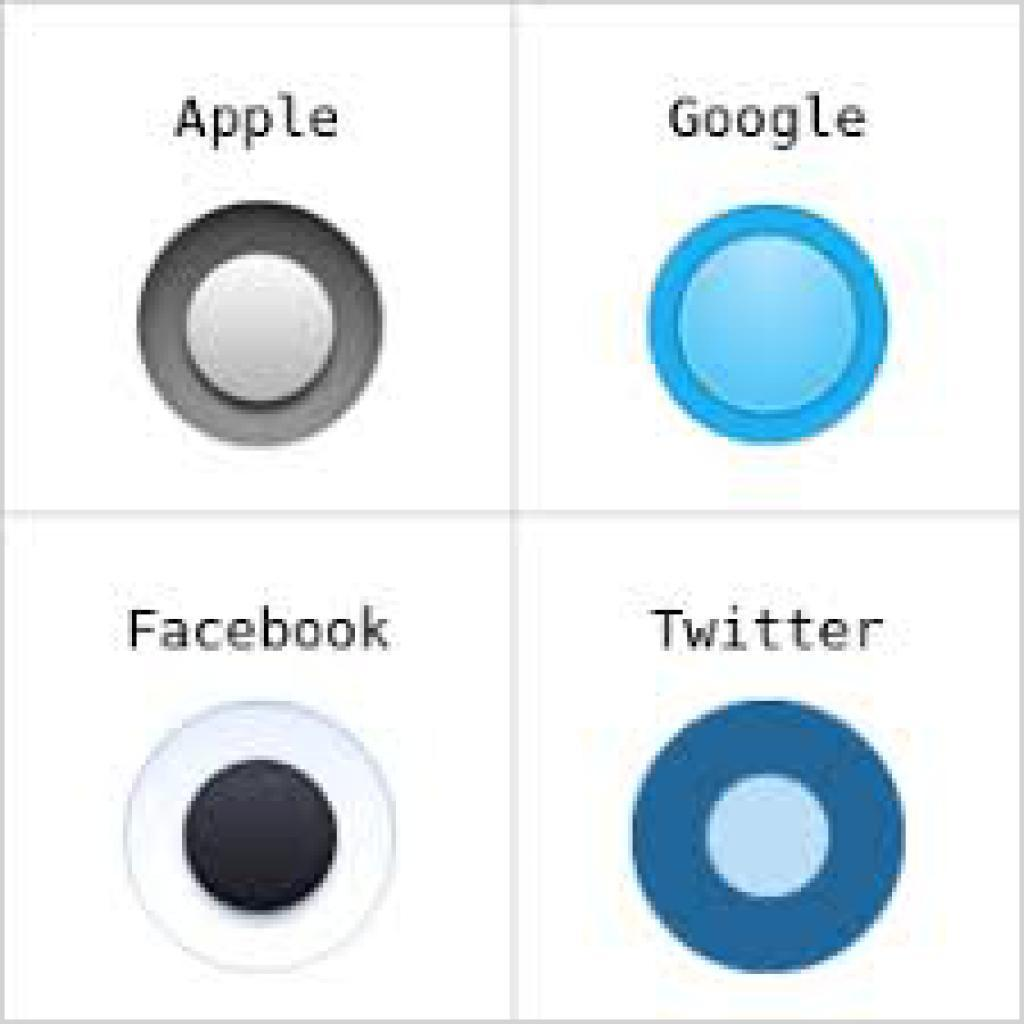radio: (622, 687, 915, 988), (118, 687, 404, 982), (125, 183, 395, 457), (645, 200, 895, 453)
